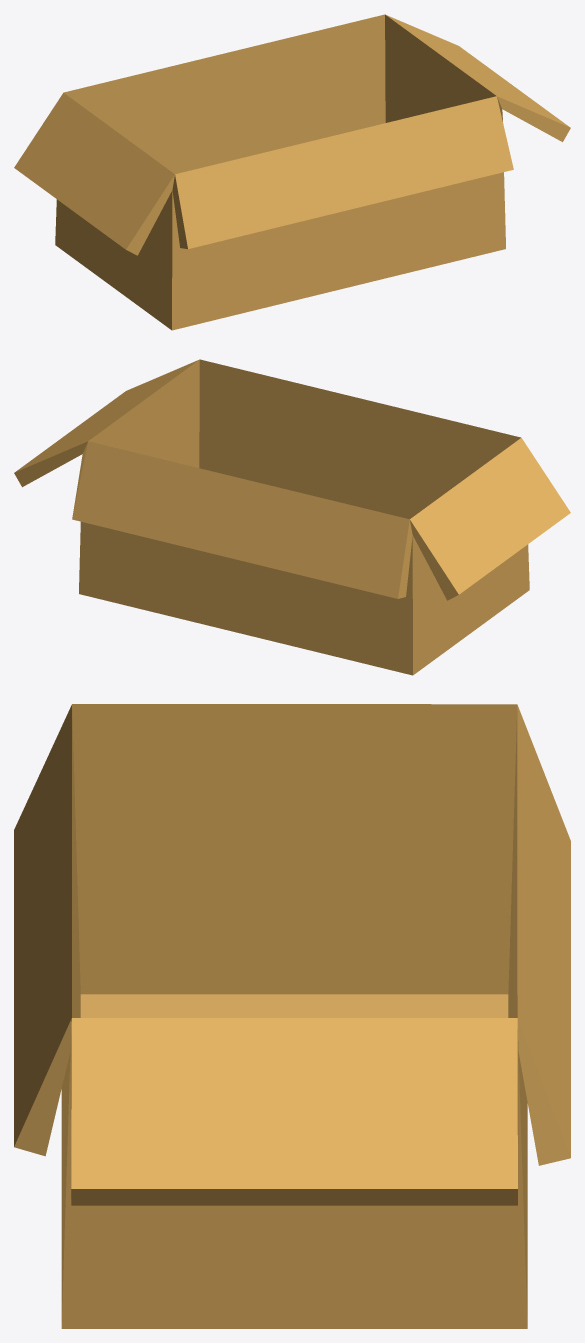
The model's file is trashBox2.fbx.
3 renders of one model, top to bottom at view 1: azimuth 30°, elevation 25°; view 2: azimuth 150°, elevation 25°; view 3: azimuth 270°, elevation 25°, orthographic. The views are drawn at different scales.
Parts seen in each view (by area): view 1: Plane; view 2: Plane; view 3: Plane.
Boxes of the visible parts, x1=… form: Plane: x1=14, y1=14, x2=570, y2=330; Plane: x1=14, y1=359, x2=570, y2=675; Plane: x1=14, y1=704, x2=570, y2=1328.
Size of the model in its own units: 185 by 60.85 by 101.
